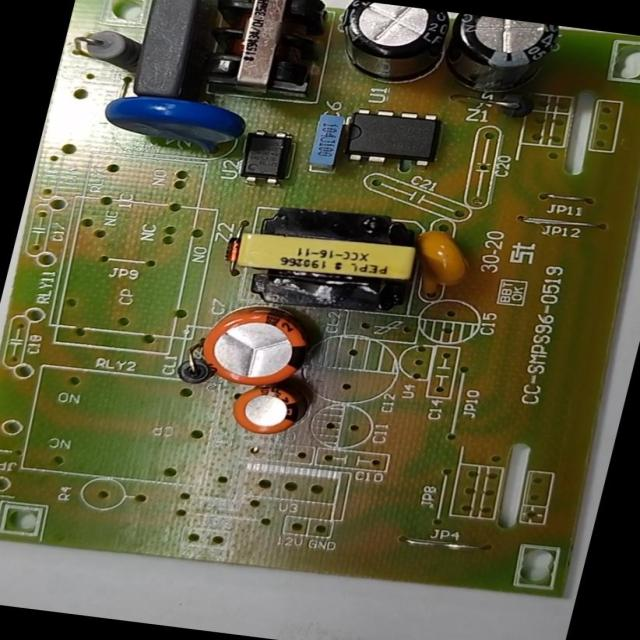Cap1: (183, 296, 336, 398)
Cap2: (217, 374, 323, 445)
Cap3: (322, 0, 463, 93)
Cap4: (434, 12, 564, 104), (63, 22, 146, 72)
MOSFET: (324, 97, 453, 175)
Mov: (94, 85, 258, 163)
Transformer: (217, 190, 443, 322), (182, 0, 344, 105)
